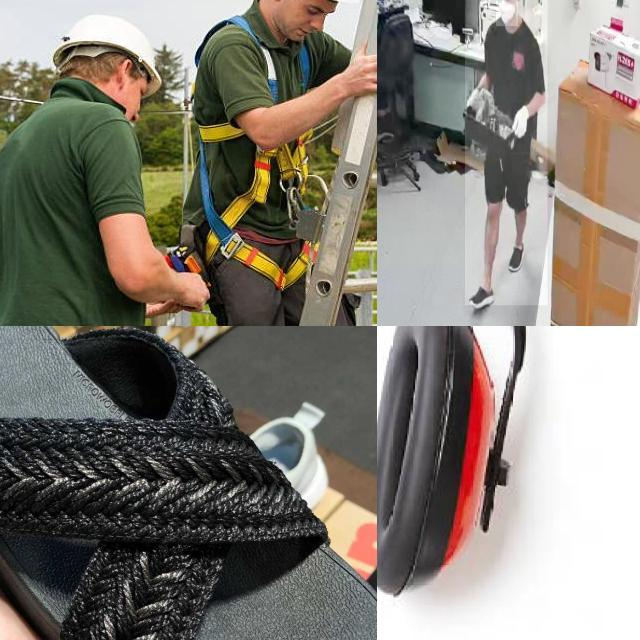Ear-protection: (377, 326, 529, 597)
Harness: (178, 16, 344, 316)
Sandals: (0, 326, 377, 640)
face_mask: (495, 0, 518, 27)
hand_glove: (511, 102, 533, 152), (468, 85, 484, 120)
person: (465, 0, 548, 306)
shoes: (468, 278, 497, 312), (506, 235, 526, 271)
